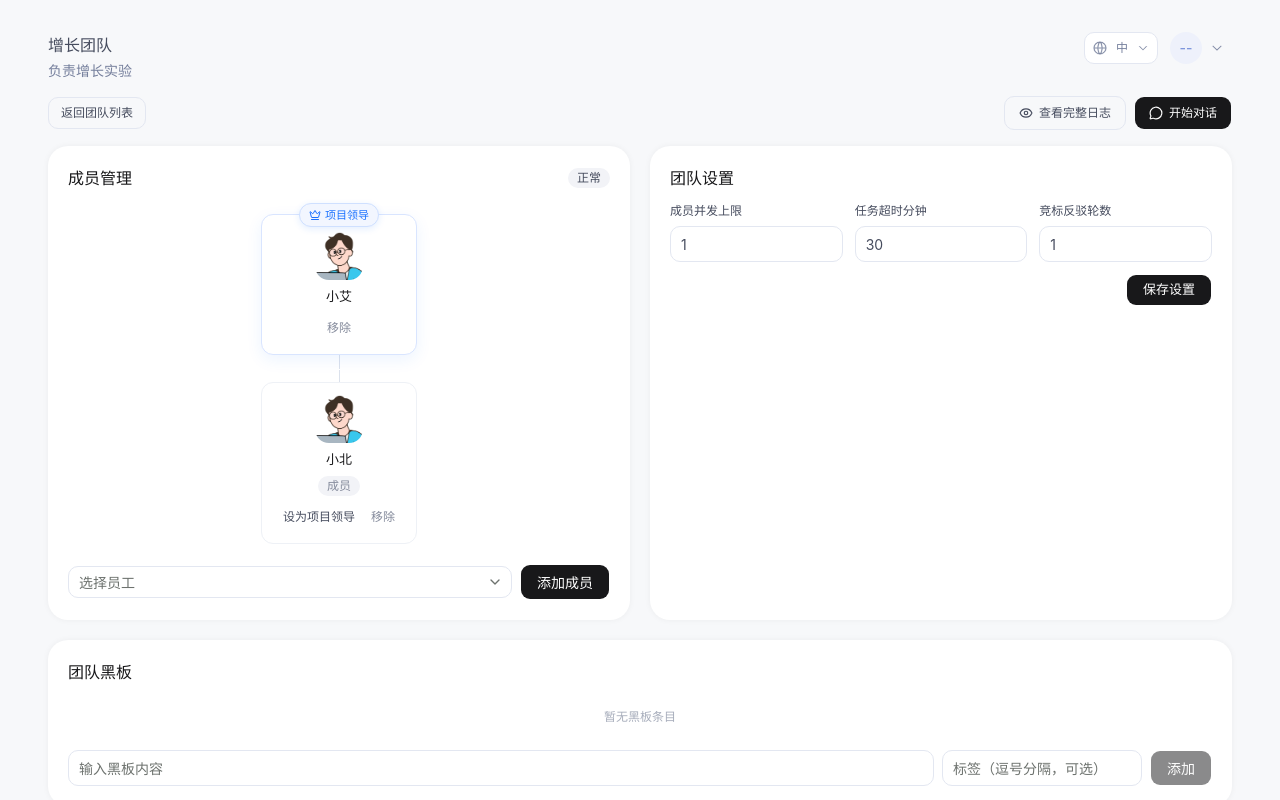
Test: TeamDetailPage › submits a human-written blackboard entry with tags
The image size is (1280, 800).
Type "release risk" into the field labelled "输入黑板内容" at x=501, y=768, box [68,750,934,786]
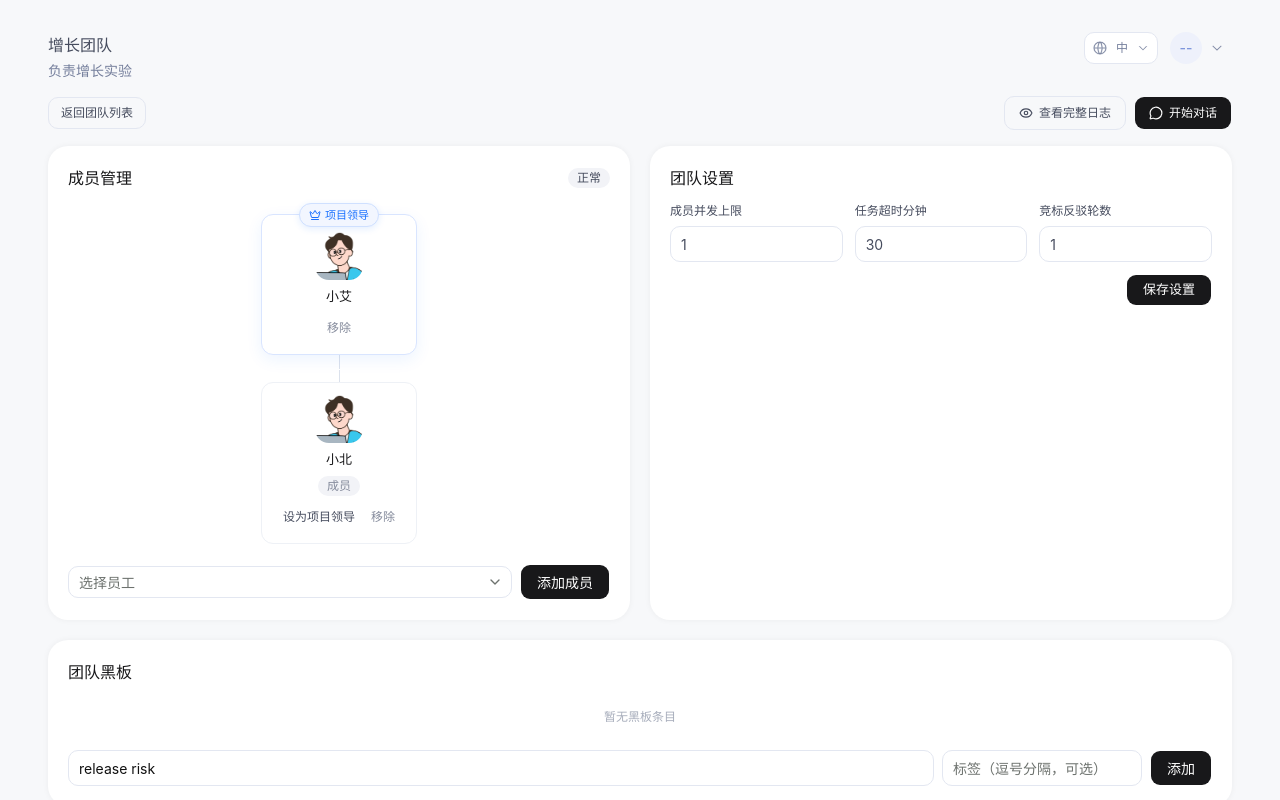
Type "risk, launch" into the field labelled "标签（逗号分隔，可选）" at x=1042, y=768, box [942,750,1142,786]
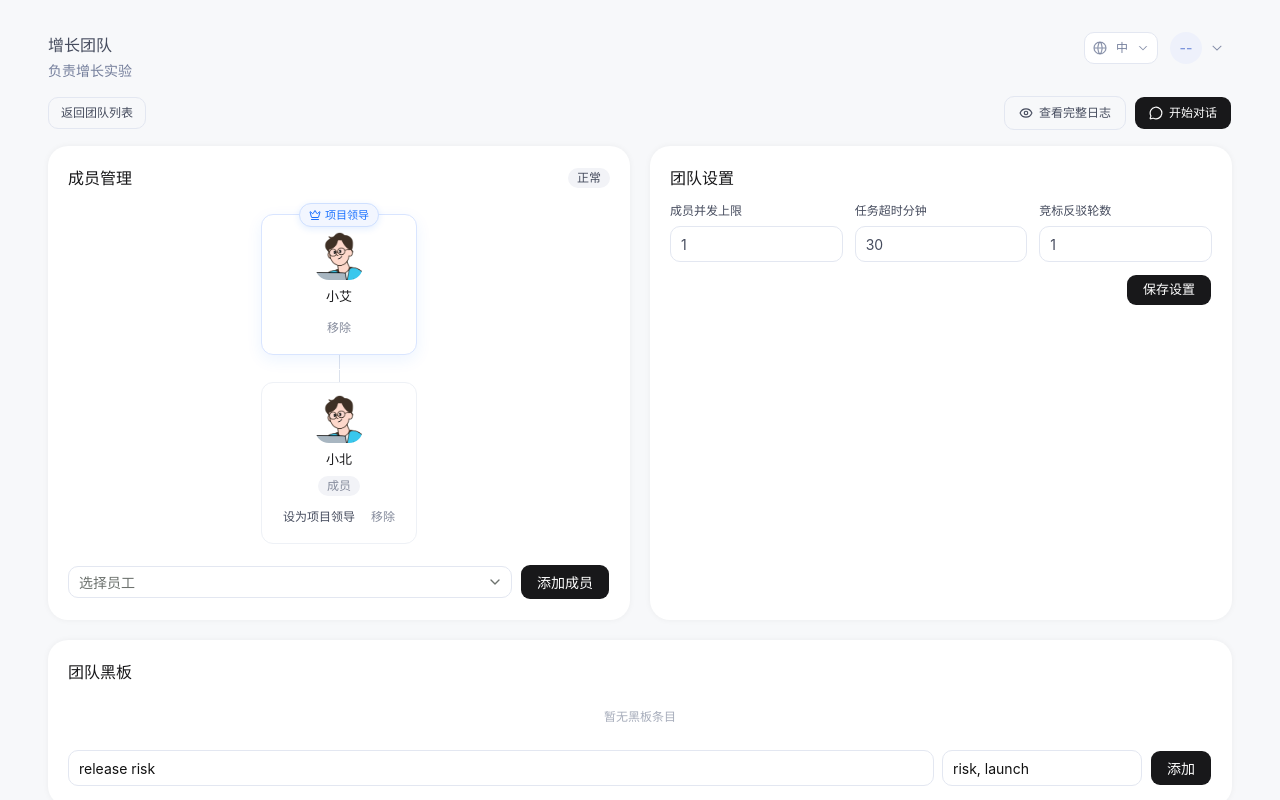
Click the button "添加" at x=1181, y=768, box [1150,750,1212,786]
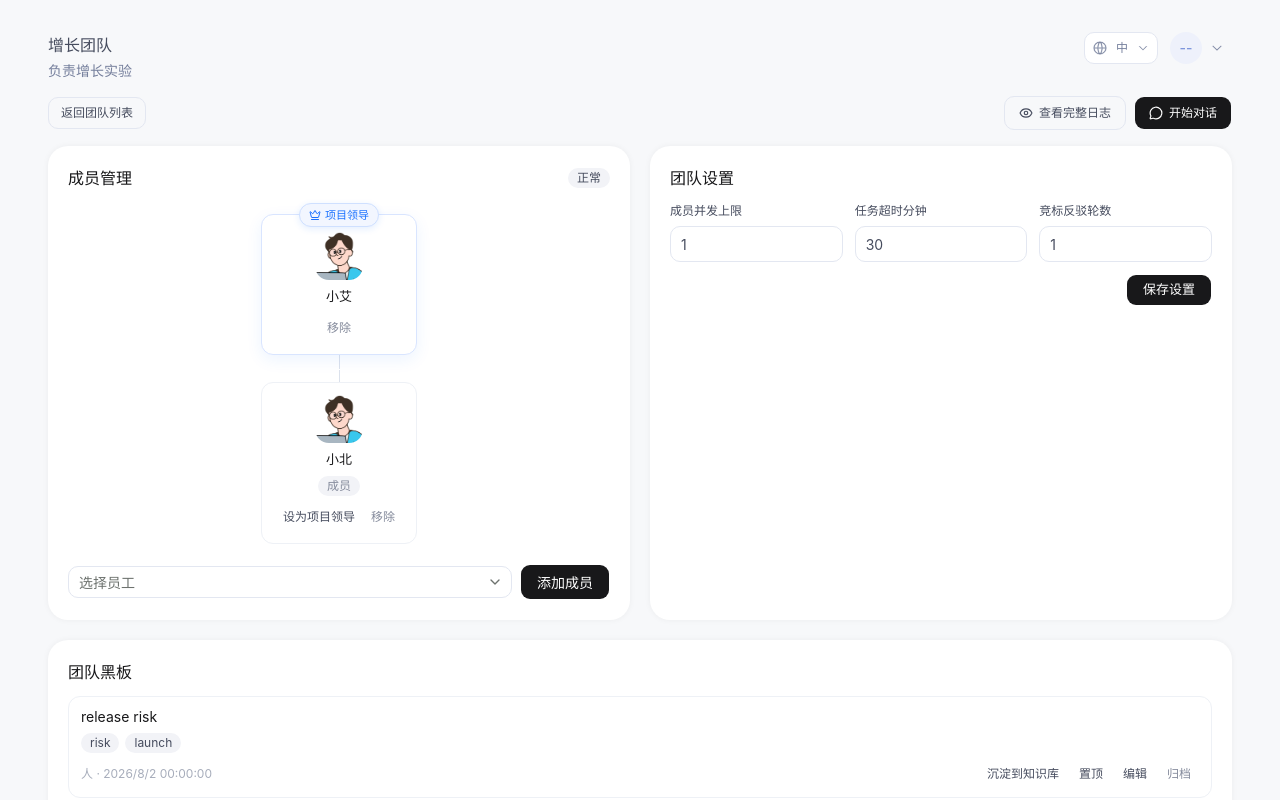
Check: the text "release risk" is shown, box [81,708,157,725]
